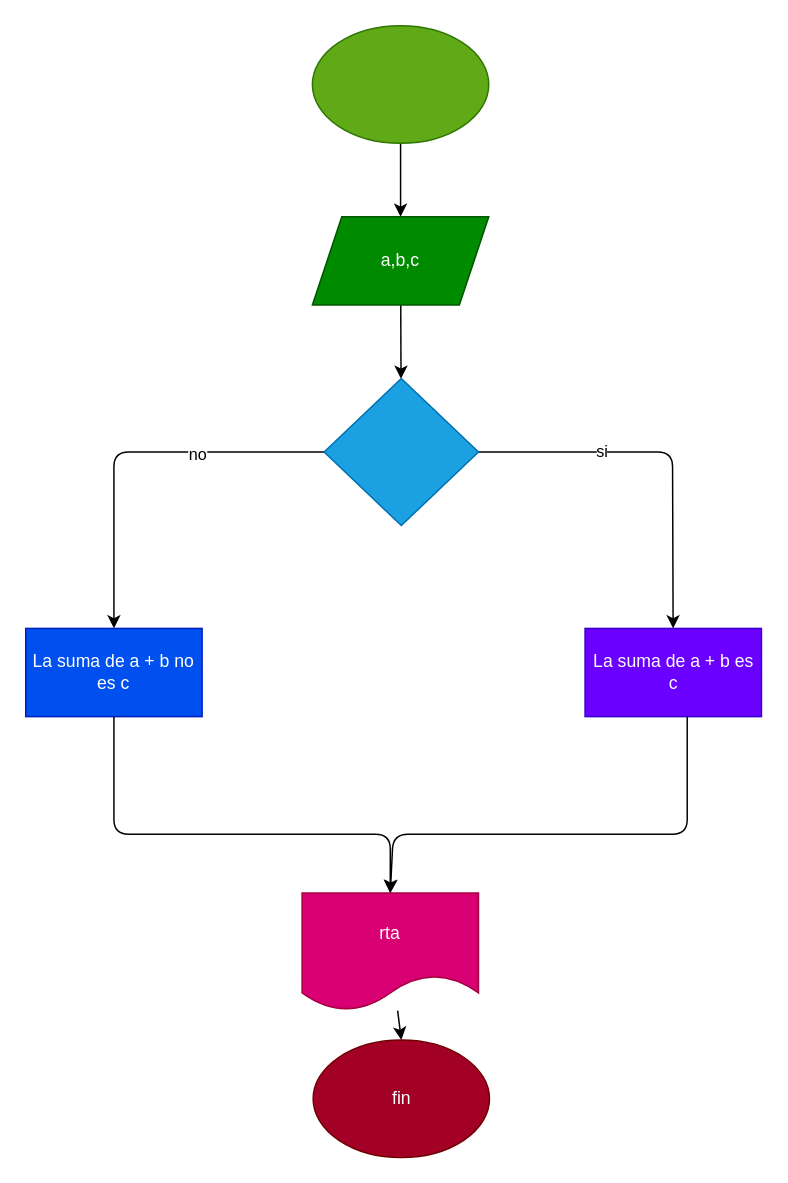
This 788x1183 diagram has some shape labels left out. The box of each missing label's shape, as (x1, y1, x2, y2) in pixels:
a + b == c: (323, 377, 478, 526)
inicio: (311, 24, 489, 143)
